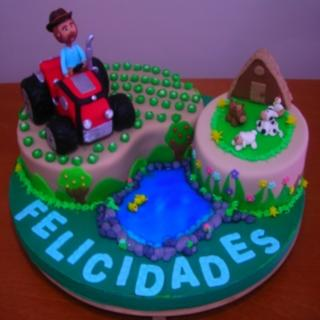Cake: (9, 8, 311, 318), (180, 56, 314, 244)
